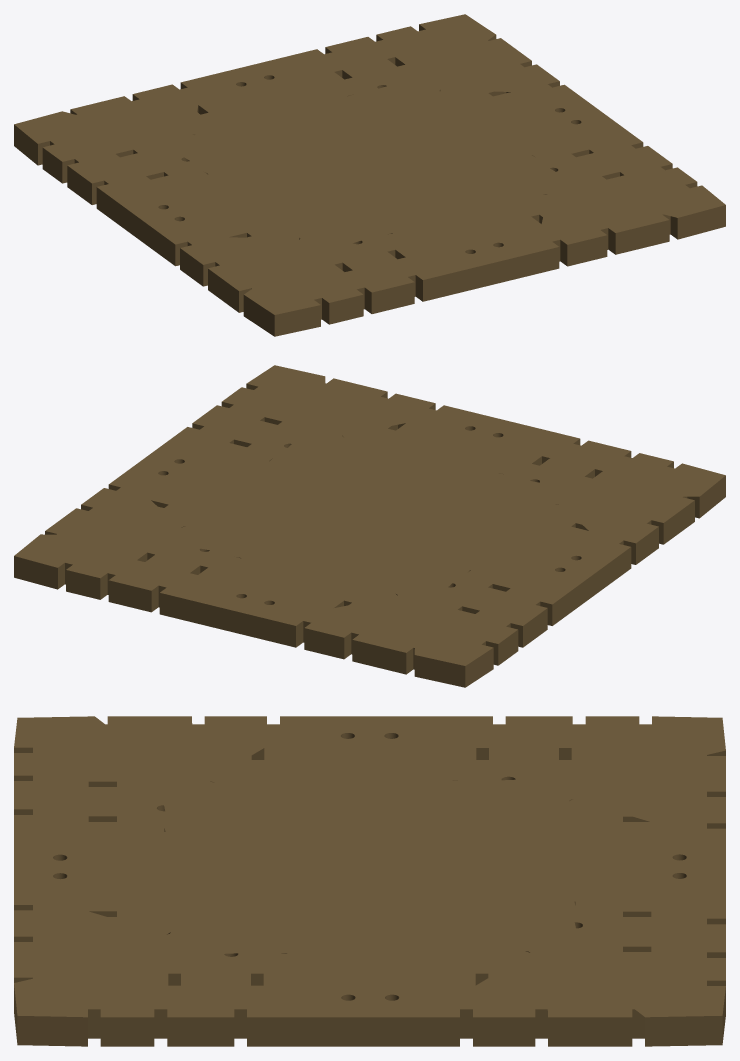
File: body_8.fbx
The picture shows the model from 3 angles, top to bottom: view 1: azimuth 30°, elevation 25°; view 2: azimuth 150°, elevation 25°; view 3: azimuth 270°, elevation 25°; orthographic projection. The views are drawn at different scales.
Parts seen in each view (by area): view 1: pCube67; view 2: pCube67; view 3: pCube67.
Part boxes in pixels (x1,y1,x2,y2): pCube67: [14, 14, 725, 336]; pCube67: [14, 365, 725, 687]; pCube67: [14, 716, 725, 1046].
Size of the model in its own units: 8.02 by 0.3652 by 8.02.
